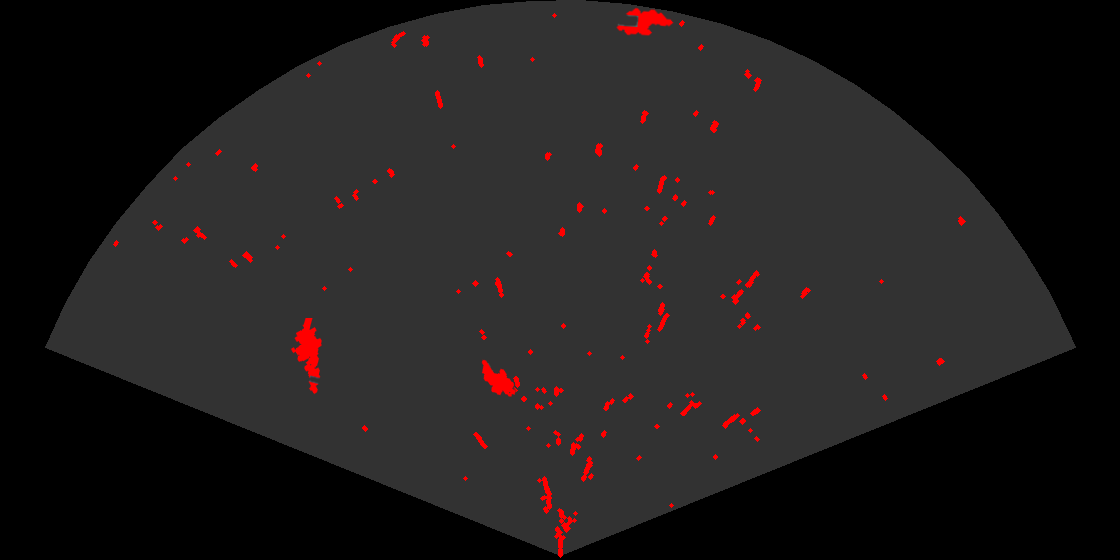AUV: (615, 6, 675, 37), (480, 358, 517, 398)
frogman: (289, 318, 323, 396)
